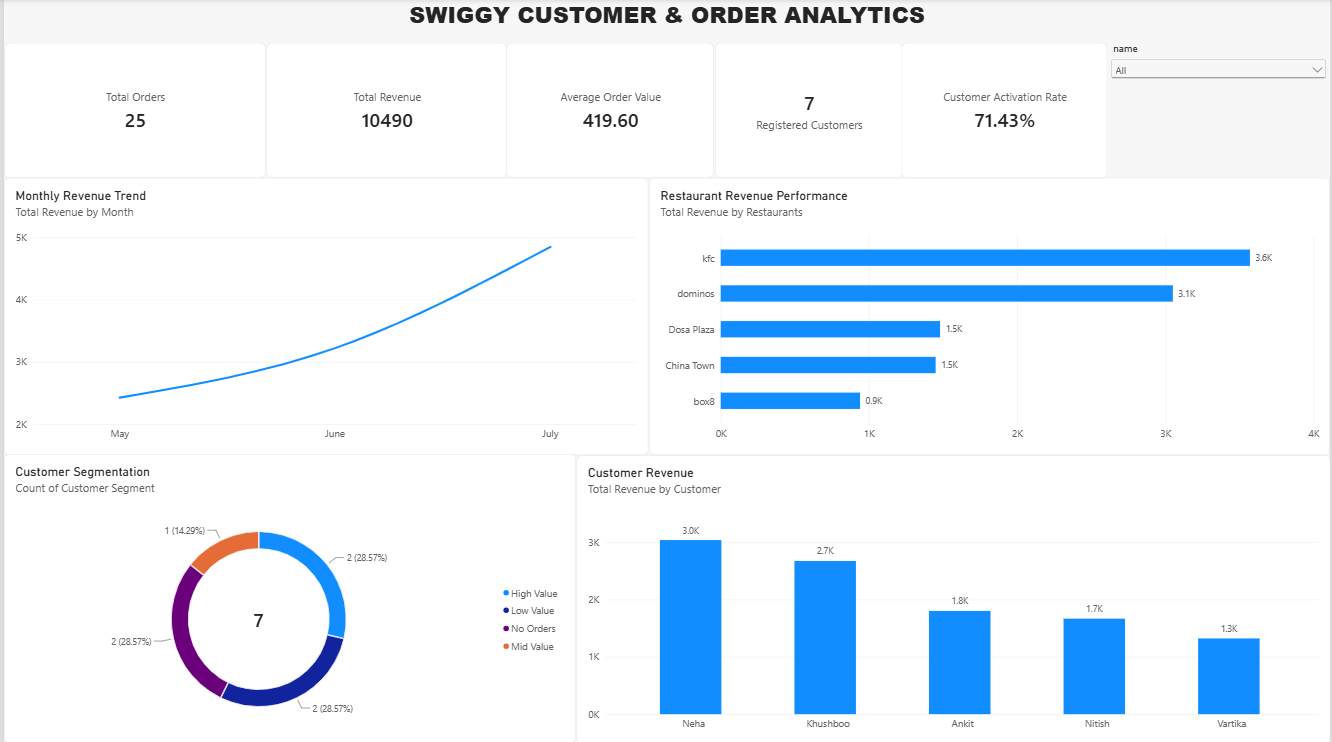

The page's visual inventory and layout, read from the dashboard file:
{"tool":"powerbi","page":{"name":"Page 1","canvas":[1920,1080],"ordinal":0},"visuals":[{"type":"cardVisual","title":"Total Orders","fields":{"Data":["public orders.Total Orders"]},"box":[0,62.6,379.8,196.2],"z":0},{"type":"cardVisual","title":"Total Revenue","fields":{"Data":["public orders.Total Revenue"]},"box":[379.8,62.6,348.5,196.2],"z":1},{"type":"cardVisual","title":"AOV","fields":{"Data":["public orders.Average Order Value"]},"box":[728.3,62.6,300.5,196.2],"z":2},{"type":"cardVisual","title":"Registered Customers","fields":{"Data":["public users.Registered Customers"]},"box":[1028.9,62.6,271.3,196.2],"z":3},{"type":"lineChart","title":"Monthly Revenue Trend","fields":{"Category":["public orders.order_date.Variation.Date Hierarchy.Month"],"Y":["public orders.Total Revenue"]},"box":[0,258.5,932.9,401.9],"z":4},{"type":"clusteredBarChart","title":"Restaurant Revenue Performance","fields":{"Category":["public restaurants.r_name"],"Y":["public orders.Total Revenue"]},"box":[932.9,258.5,987.5,401.9],"z":5},{"type":"donutChart","title":"Customer Segmentation","fields":{"Category":["public users.Customer Segment"],"Y":["CountNonNull(public users.user_id)"]},"box":[0,659.5,827.9,420],"z":6},{"type":"clusteredColumnChart","title":"Customer Revenue","fields":{"Category":["public users.name"],"Y":["public orders.Total Revenue"]},"box":[827.9,660.3,1092.5,420],"z":7},{"type":"cardVisual","fields":{"Data":["public delivery_partner.Customer Activation Rate"]},"box":[1300.2,62.6,298.4,196.2],"z":9},{"type":"slicer","fields":{"Values":["public users.name"]},"box":[1598.6,62.6,321.4,196.2],"z":10},{"type":"textbox","box":[0,0,1920,62.6],"z":11}]}

Visuals, with their boxes in screenshot pixels (x1, y1, x2, y2), scaled from the page's 1920x1080 canvas onto the 1332x742 screenshot:
"Total Orders" cardVisual: {"left": 0, "top": 43, "right": 263, "bottom": 178}
"Total Revenue" cardVisual: {"left": 263, "top": 43, "right": 505, "bottom": 178}
"AOV" cardVisual: {"left": 505, "top": 43, "right": 714, "bottom": 178}
"Registered Customers" cardVisual: {"left": 714, "top": 43, "right": 902, "bottom": 178}
"Monthly Revenue Trend" lineChart: {"left": 0, "top": 178, "right": 647, "bottom": 454}
"Restaurant Revenue Performance" clusteredBarChart: {"left": 647, "top": 178, "right": 1331, "bottom": 454}
"Customer Segmentation" donutChart: {"left": 0, "top": 453, "right": 574, "bottom": 741}
"Customer Revenue" clusteredColumnChart: {"left": 574, "top": 454, "right": 1331, "bottom": 741}
cardVisual - public delivery_partner.Customer Activation Rate: {"left": 902, "top": 43, "right": 1109, "bottom": 178}
slicer - public users.name: {"left": 1109, "top": 43, "right": 1331, "bottom": 178}
textbox: {"left": 0, "top": 0, "right": 1331, "bottom": 43}
